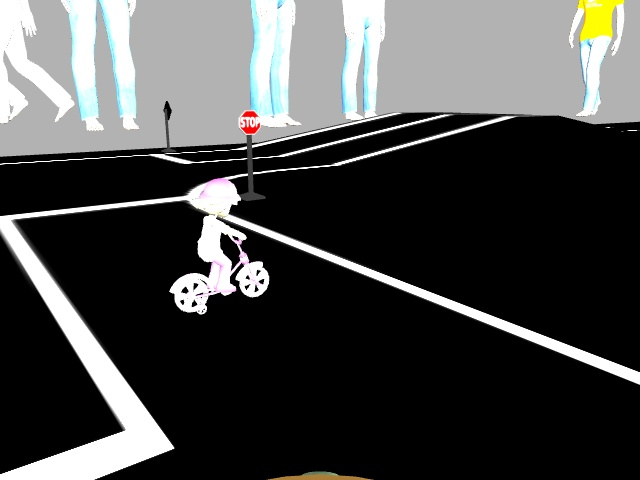Pedestrian: (165, 172, 280, 316)
Stop: (236, 107, 262, 136)
